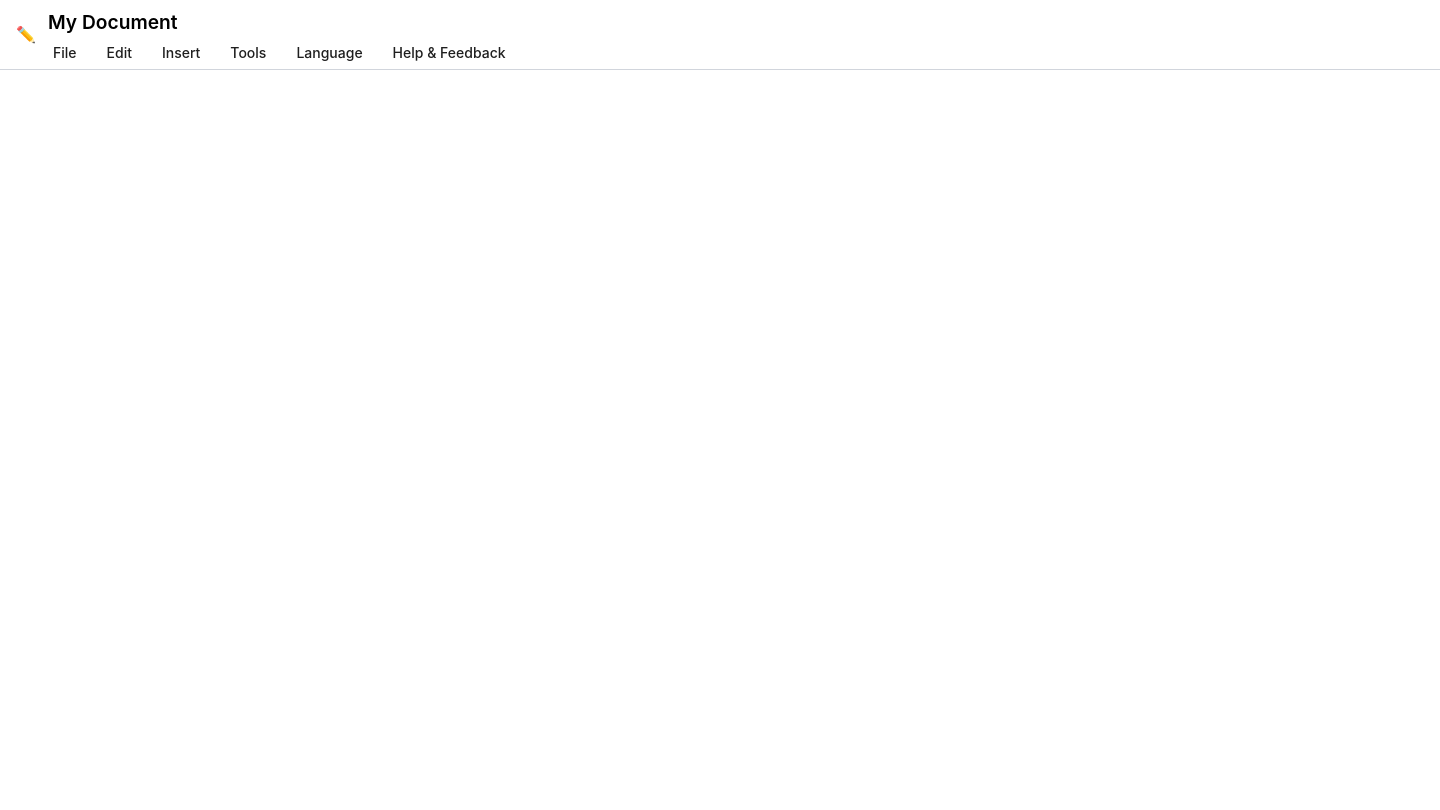
Test: TopBar › renders a helpMenu inline with File/Edit/Insert/Tools/Language, wired to the feedback dialog
Expected: the text "Provide Feedback or Request Support" is not shown
Click the button "Help & Feedback": (449, 53) x1=380 y1=37 x2=518 y2=69
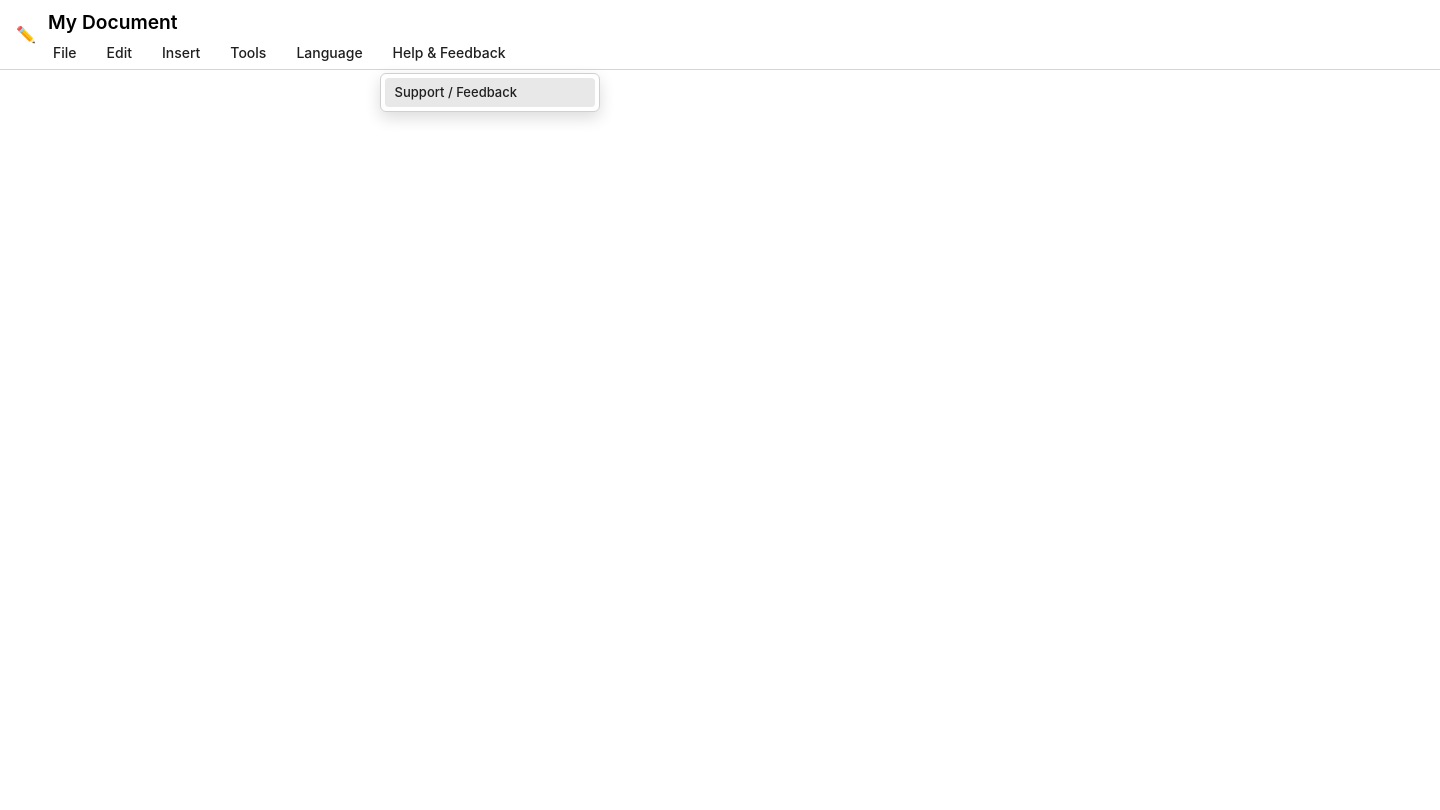
Click the menu item "Support / Feedback": (490, 92) x1=385 y1=78 x2=595 y2=107
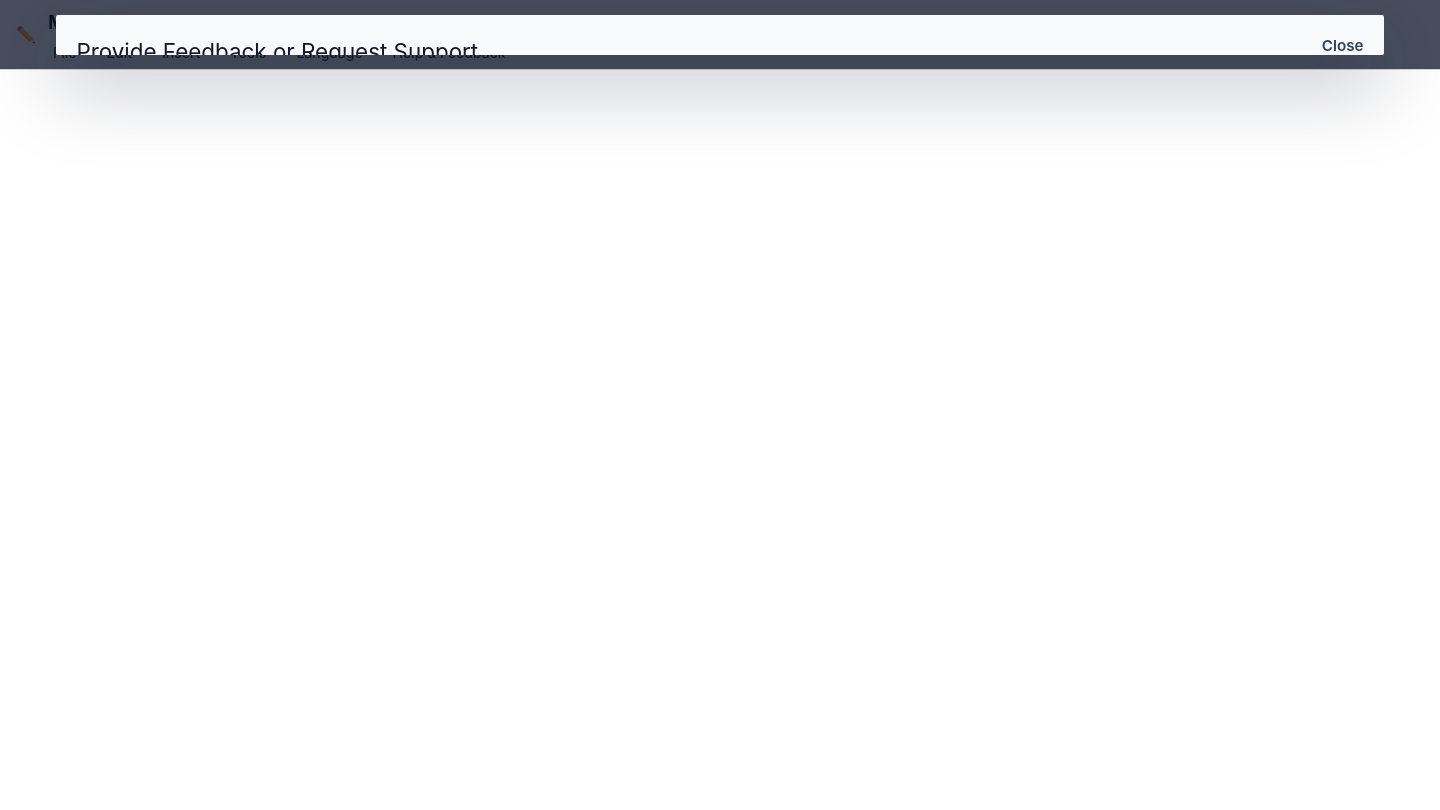
Expected: the heading "Provide Feedback or Request Support" is shown, x1=76 y1=38 x2=478 y2=54
